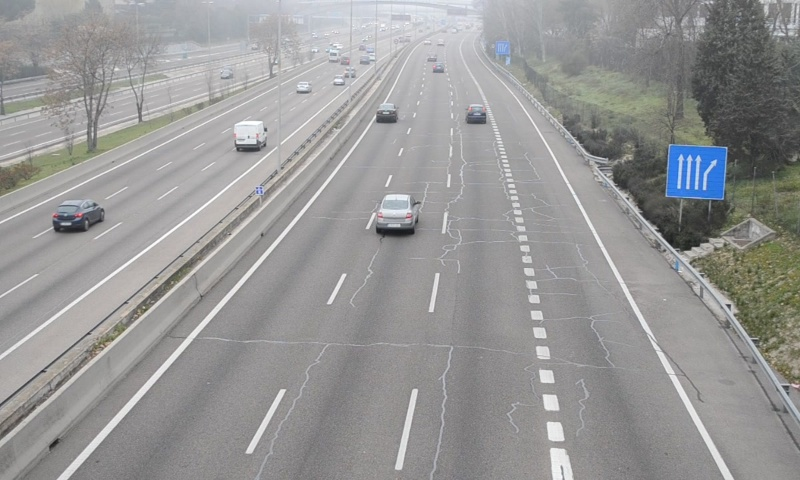car: (375, 195, 417, 230), (376, 103, 398, 123), (466, 104, 487, 124)
